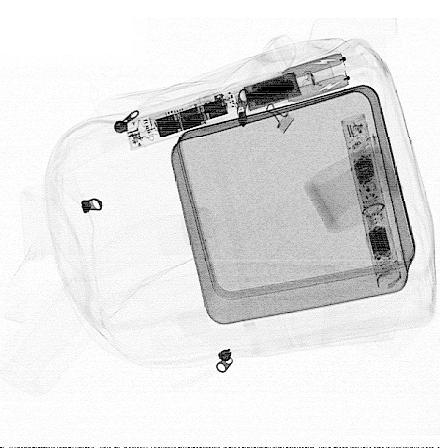Baton: (125, 50, 353, 150), (341, 113, 402, 291)
